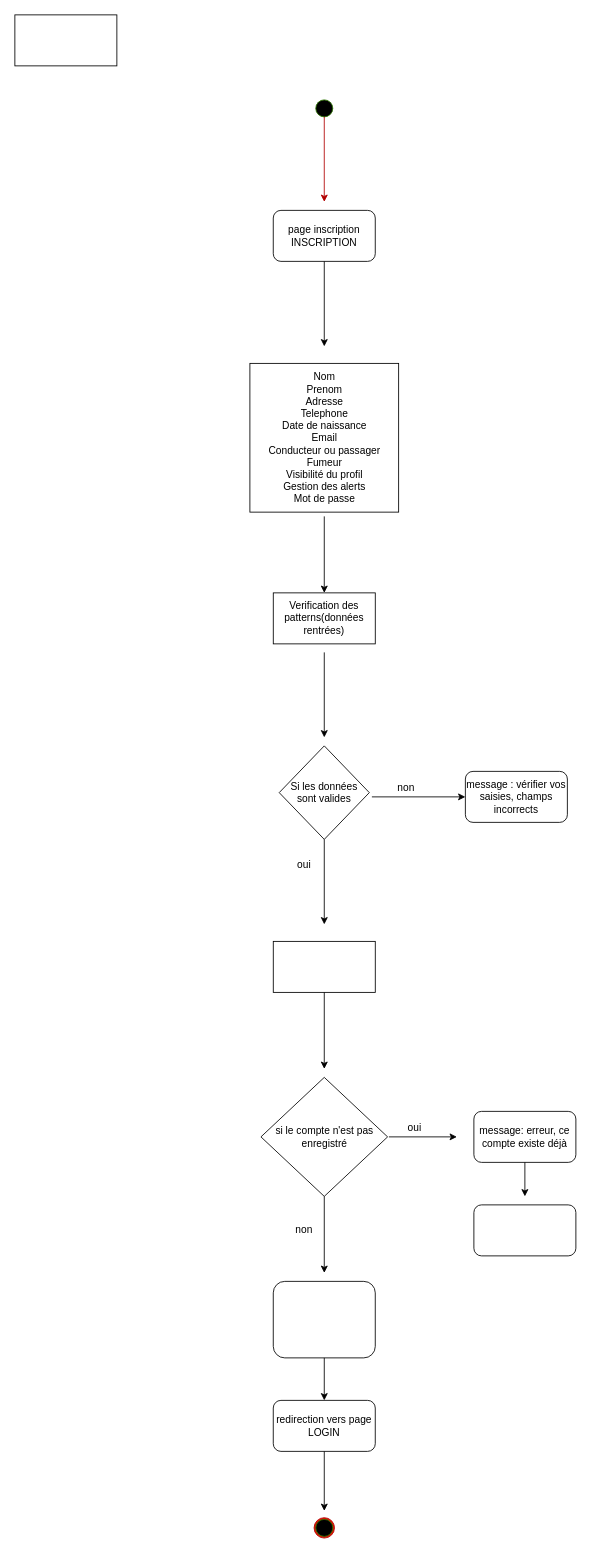
This 591x1553 diagram has some shape labels left out. The shapes that lost their labels are listed below. From the top down, each one's box as (x1, y1, x2, y2) in pixels, then its label:
(14, 14, 117, 66): inscription
(272, 941, 375, 992): controlleur envoie la requète vers la bdd
(473, 1204, 576, 1256): redirection vers page d'INSCRIPTION
(272, 1281, 375, 1358): message : votre compte a bien été enregistrés vous pouvez vous connecter
